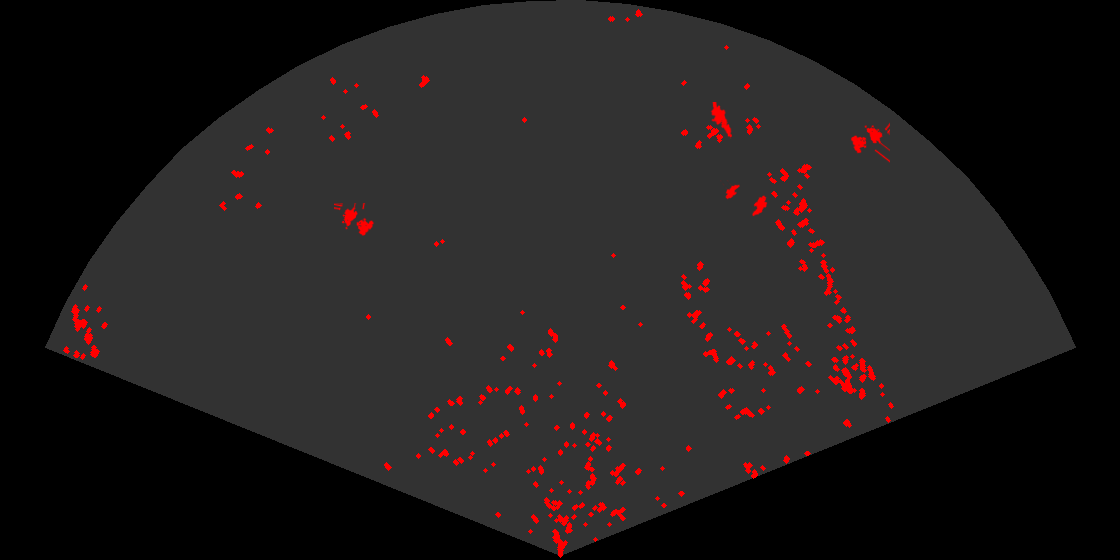AUV: (720, 180, 741, 201), (751, 194, 769, 218)
cage: (849, 121, 890, 163), (334, 203, 376, 237)
frogman: (709, 102, 734, 139)
